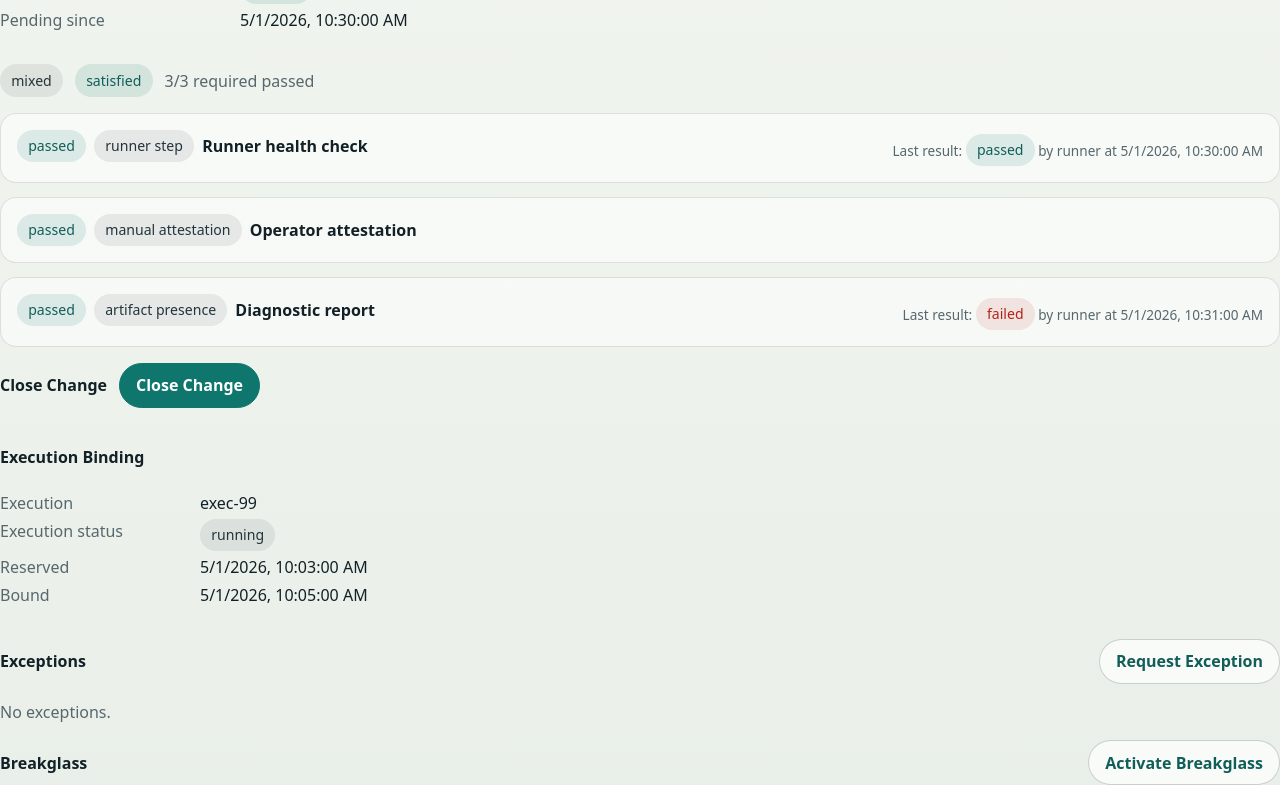
Test: ChangeDetailPage › opens closure dialog on close button click and shows outcome options for verified change
(page scrolled)
Click the button "Close Change" at (190, 385), box [119,363,260,408]
(page scrolled)
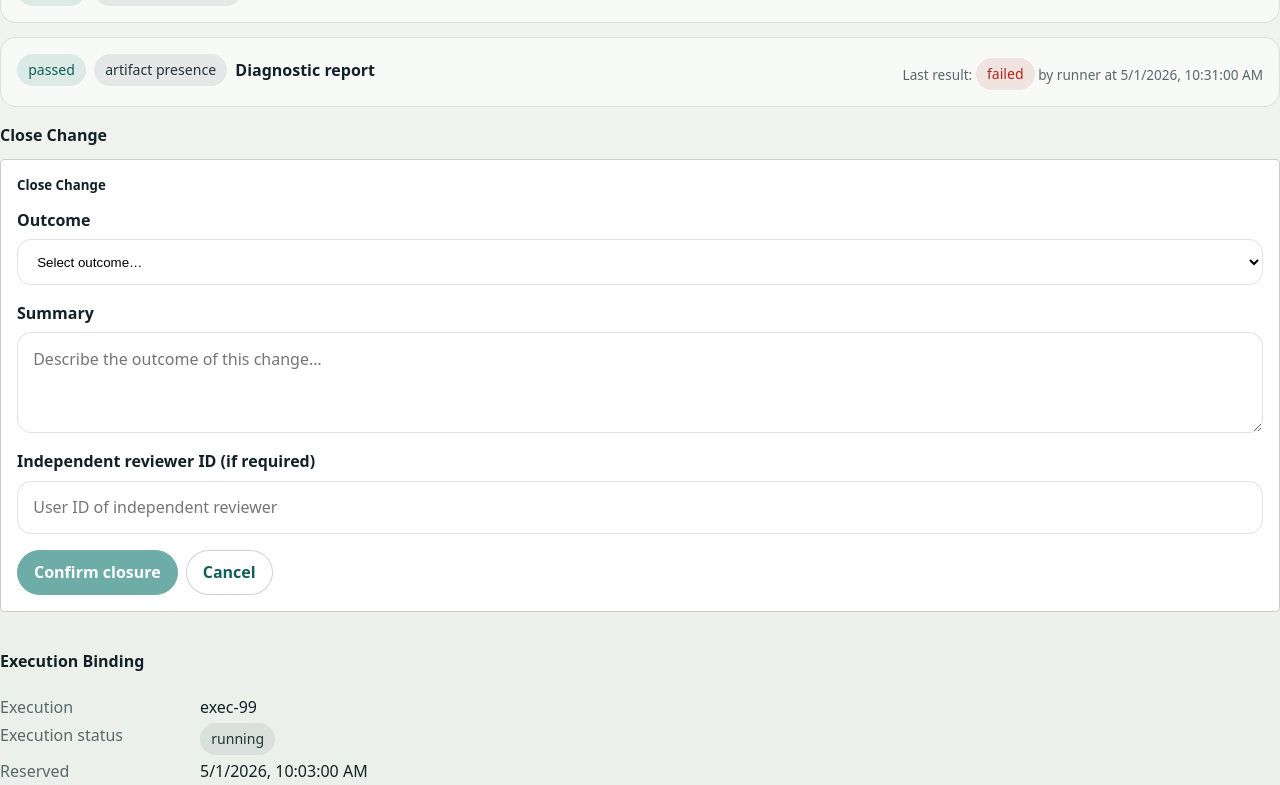
Expected: the dialog "Close Change" is shown, [0,159,1279,612]
